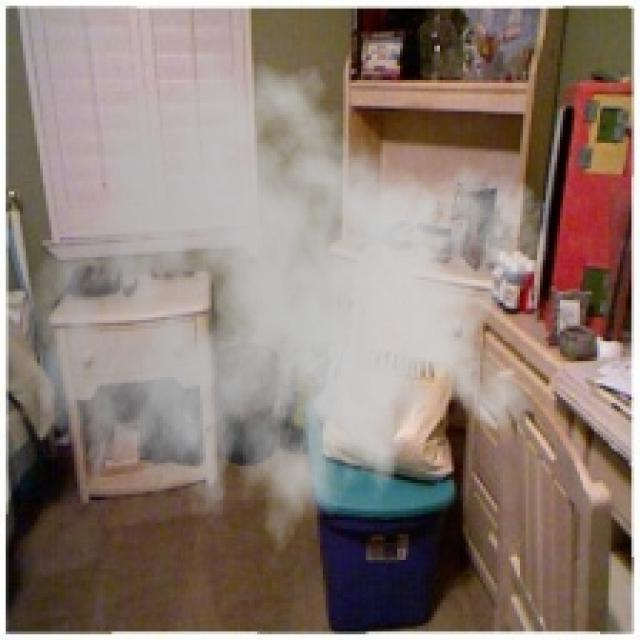Smoke: (26, 31, 552, 578)
